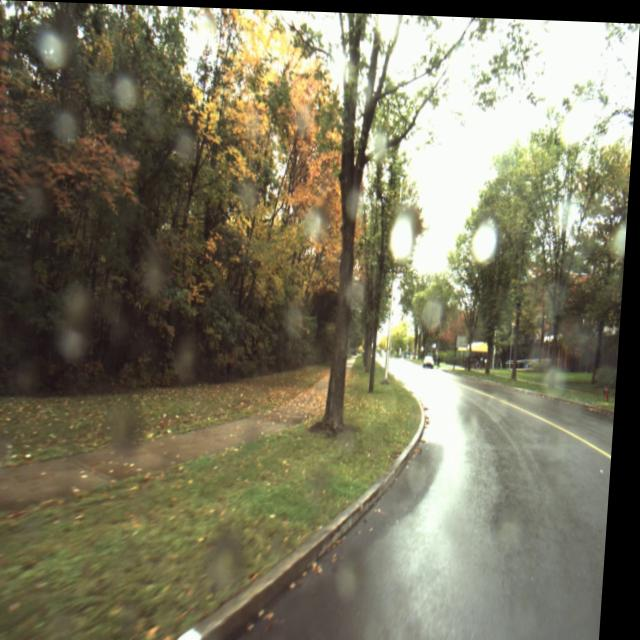car: (428, 351, 440, 366)
